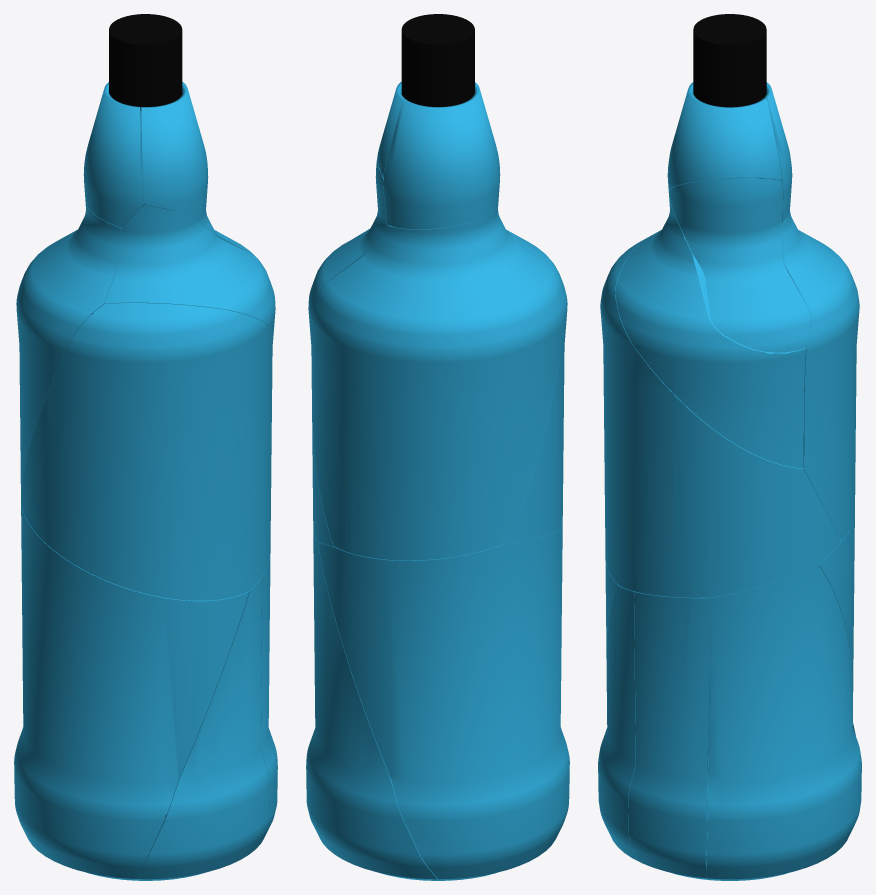
The model's file is Botella_Vodka_Rota.fbx.
The picture shows the model from 3 angles, left to right: view 1: azimuth 30°, elevation 25°; view 2: azimuth 150°, elevation 25°; view 3: azimuth 270°, elevation 25°; orthographic projection.
Visible parts, largest first — view 1: Botella3.Rota_cell.005, Botella3.Rota_cell.001, Botella3.Rota_cell.008, Botella3.Rota_cell.007, Botella3.Rota_cell.009, Botella3.Rota_cell, Tapon3.001, Botella3.Rota_cell.003, Botella3.Rota_cell.006, Botella3.Rota_cell.004; view 2: Botella3.Rota_cell.009, Botella3.Rota_cell.001, Botella3.Rota_cell.002, Botella3.Rota_cell, Tapon3.001, Botella3.Rota_cell.005, Botella3.Rota_cell.004, Botella3.Rota_cell.003; view 3: Botella3.Rota_cell.002, Botella3.Rota_cell.005, Botella3.Rota_cell.007, Botella3.Rota_cell.006, Botella3.Rota_cell.004, Botella3.Rota_cell.009, Botella3.Rota_cell.003, Botella3.Rota_cell.008, Tapon3.001, Botella3.Rota_cell.001, Botella3.Rota_cell.
Boxes of the visible parts, box(x1,y1,x2,y2) form: Botella3.Rota_cell.005: box(21, 303, 273, 600); Botella3.Rota_cell.001: box(14, 501, 249, 879); Botella3.Rota_cell.008: box(126, 577, 269, 880); Botella3.Rota_cell.007: box(104, 205, 275, 336); Botella3.Rota_cell.009: box(16, 189, 156, 499); Botella3.Rota_cell: box(83, 82, 143, 227); Tapon3.001: box(109, 14, 182, 110); Botella3.Rota_cell.003: box(141, 82, 206, 210); Botella3.Rota_cell.006: box(259, 556, 277, 845); Botella3.Rota_cell.004: box(157, 158, 254, 255); Botella3.Rota_cell.009: box(309, 205, 565, 560); Botella3.Rota_cell.001: box(318, 526, 569, 880); Botella3.Rota_cell.002: box(306, 533, 450, 880); Botella3.Rota_cell: box(383, 83, 500, 229); Tapon3.001: box(401, 14, 474, 106); Botella3.Rota_cell.005: box(312, 237, 567, 546); Botella3.Rota_cell.004: box(308, 154, 387, 308); Botella3.Rota_cell.003: box(377, 82, 476, 177); Botella3.Rota_cell.002: box(705, 565, 861, 880); Botella3.Rota_cell.005: box(600, 237, 841, 597); Botella3.Rota_cell.007: box(615, 191, 805, 468); Botella3.Rota_cell.006: box(628, 591, 710, 879); Botella3.Rota_cell.004: box(669, 178, 810, 352); Botella3.Rota_cell.009: box(781, 210, 859, 540); Botella3.Rota_cell.003: box(667, 82, 781, 190); Botella3.Rota_cell.008: box(598, 586, 636, 860); Tapon3.001: box(693, 14, 766, 107); Botella3.Rota_cell.001: box(605, 468, 855, 800); Botella3.Rota_cell: box(763, 82, 792, 223).
Size of the model in its own units: 5.83 by 5.81 by 19.78.
